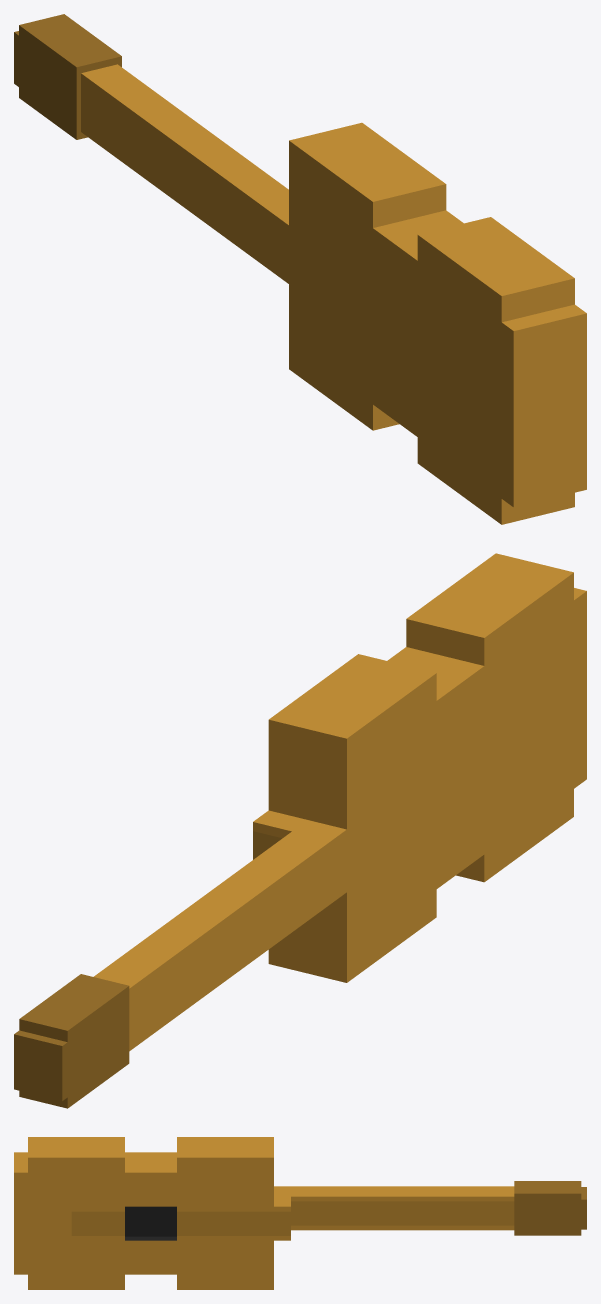
File: acousticGuitar.fbx
The picture shows the model from 3 angles, top to bottom: view 1: azimuth 30°, elevation 25°; view 2: azimuth 150°, elevation 25°; view 3: azimuth 270°, elevation 25°; orthographic projection. The views are drawn at different scales.
Visible parts, largest first — view 1: acousticGuitar; view 2: acousticGuitar; view 3: acousticGuitar.
Part boxes in pixels (x1=…): acousticGuitar: x1=14, y1=14, x2=586, y2=524; acousticGuitar: x1=14, y1=553, x2=586, y2=1108; acousticGuitar: x1=14, y1=1137, x2=586, y2=1289.
Bounding box in the file's own units: 31.59 × 88.99 × 349.
